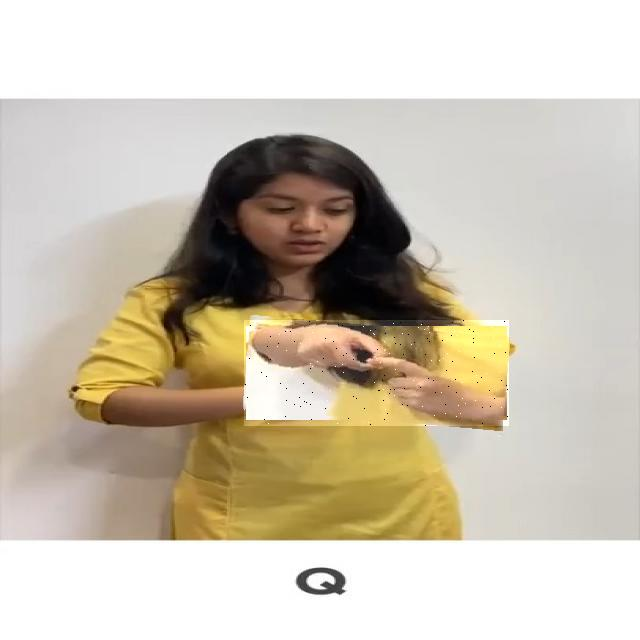Q: (244, 320, 509, 426)
